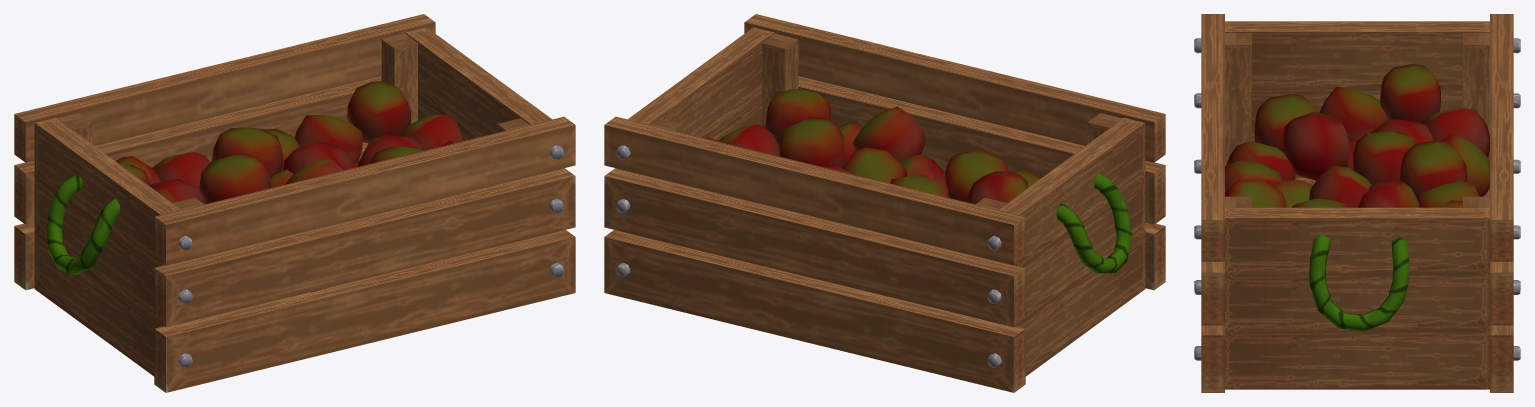
Rendered from prop_farmcrate_apple.glb.
The picture shows the model from 3 angles, left to right: view 1: azimuth 30°, elevation 25°; view 2: azimuth 150°, elevation 25°; view 3: azimuth 270°, elevation 25°; orthographic projection. The views are drawn at different scales.
Visible parts, largest first — view 1: Cylinder057, Cylinder057_2, Cylinder057_1; view 2: Cylinder057, Cylinder057_2, Cylinder057_1; view 3: Cylinder057, Cylinder057_2, Cylinder057_1.
Boxes of the visible parts, x1,y1,x2,y2 form: Cylinder057: [14, 14, 575, 392]; Cylinder057_2: [115, 81, 463, 292]; Cylinder057_1: [178, 145, 563, 367]; Cylinder057: [604, 14, 1165, 392]; Cylinder057_2: [704, 88, 1041, 204]; Cylinder057_1: [616, 145, 1001, 367]; Cylinder057: [1201, 14, 1513, 392]; Cylinder057_2: [1225, 64, 1489, 207]; Cylinder057_1: [1194, 38, 1520, 360].
Bounding box in the file's own units: 0.7138 × 0.2438 × 0.4142.
Materials: 3 (3 with a texture image).
